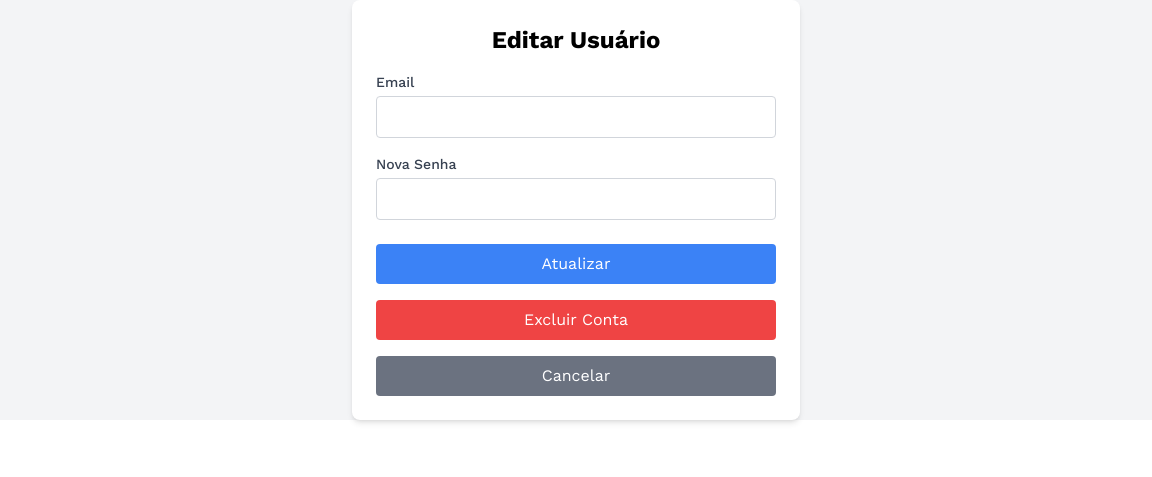
Test case: EditUser Component › Deve lidar com erro ao obter a sessão antes de excluir a conta
Click the button "Excluir Conta" at coordinates (576, 320), box x1=376 y1=300 x2=776 y2=340
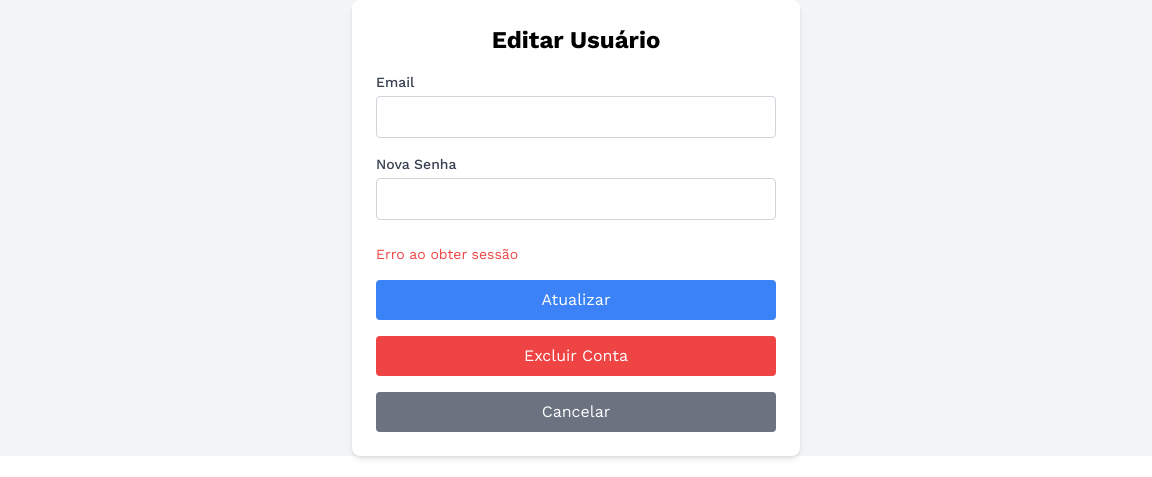
Result: the text "Erro ao obter sessão" is shown at x1=376 y1=246 x2=518 y2=262
